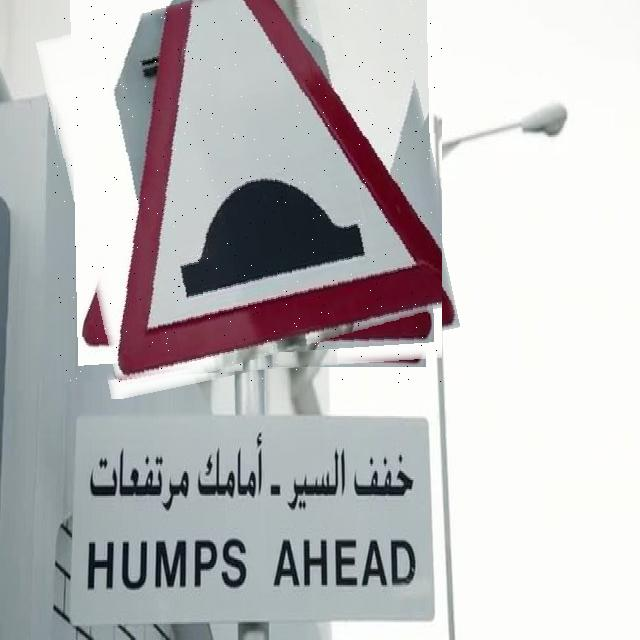hump: (53, 0, 442, 383)
